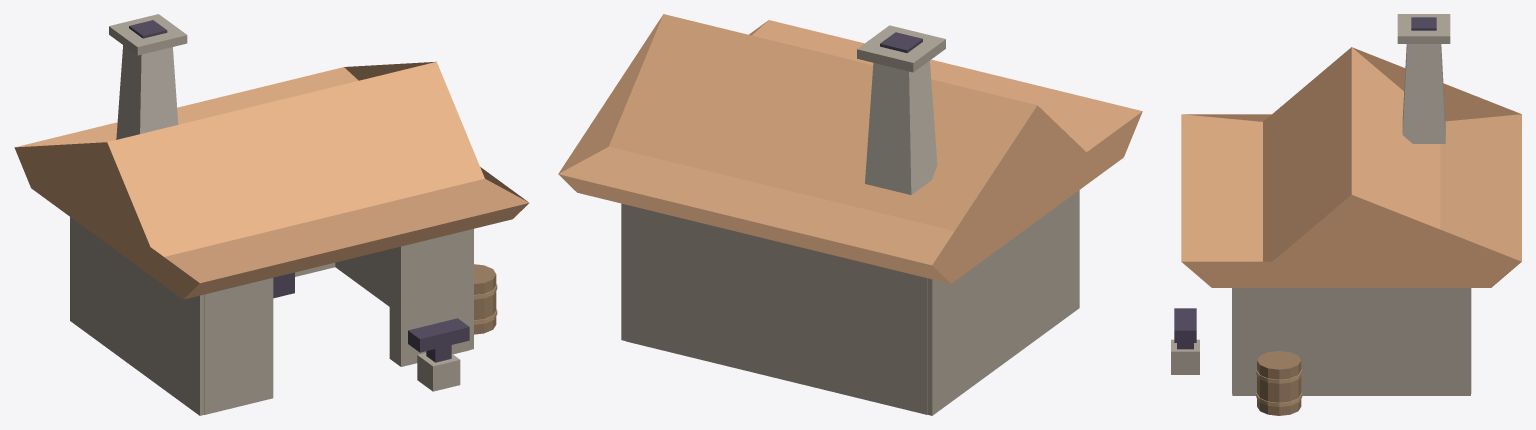
The model's file is forge.glb.
3 views of the same model, side by side, from view 1: azimuth 30°, elevation 25°; view 2: azimuth 150°, elevation 25°; view 3: azimuth 270°, elevation 25° (orthographic). The views are drawn at different scales.
Parts seen in each view (by area): view 1: roof, wall_side_-1, wall_front_-1, wall_front_1, chimney, wall_side_1, chimney_cap, anvil_top, anvil_base, barrel, hearth; view 2: roof, wall_back, wall_side_-1, chimney, chimney_cap, wall_side_1, chimney_mouth; view 3: roof, wall_side_1, chimney, barrel, chimney_cap, anvil_base, anvil_top, chimney_mouth.
Boxes of the visible parts, bbox=[...] form: roof: bbox=[14, 61, 529, 299]; wall_side_-1: bbox=[70, 217, 204, 415]; wall_front_-1: bbox=[204, 278, 273, 414]; wall_front_1: bbox=[389, 230, 469, 366]; chimney: bbox=[116, 45, 178, 139]; wall_side_1: bbox=[335, 229, 473, 349]; chimney_cap: bbox=[109, 14, 187, 55]; anvil_top: bbox=[408, 318, 469, 352]; anvil_base: bbox=[417, 353, 460, 391]; barrel: bbox=[474, 264, 496, 334]; hearth: bbox=[273, 272, 294, 298]; roof: bbox=[558, 14, 1142, 283]; wall_back: bbox=[626, 204, 927, 414]; wall_side_-1: bbox=[927, 190, 1079, 415]; chimney: bbox=[865, 61, 937, 194]; chimney_cap: bbox=[857, 25, 945, 72]; wall_side_1: bbox=[621, 203, 625, 340]; chimney_mouth: bbox=[880, 32, 922, 52]; roof: bbox=[1181, 47, 1521, 287]; wall_side_1: bbox=[1232, 288, 1470, 395]; chimney: bbox=[1402, 44, 1445, 143]; barrel: bbox=[1257, 351, 1301, 415]; chimney_cap: bbox=[1397, 14, 1450, 43]; anvil_base: bbox=[1171, 339, 1199, 374]; anvil_top: bbox=[1174, 308, 1196, 342]; chimney_mouth: bbox=[1411, 17, 1436, 30].
Bounding box in the file's own units: 4.26 × 3.5 × 4.06.
